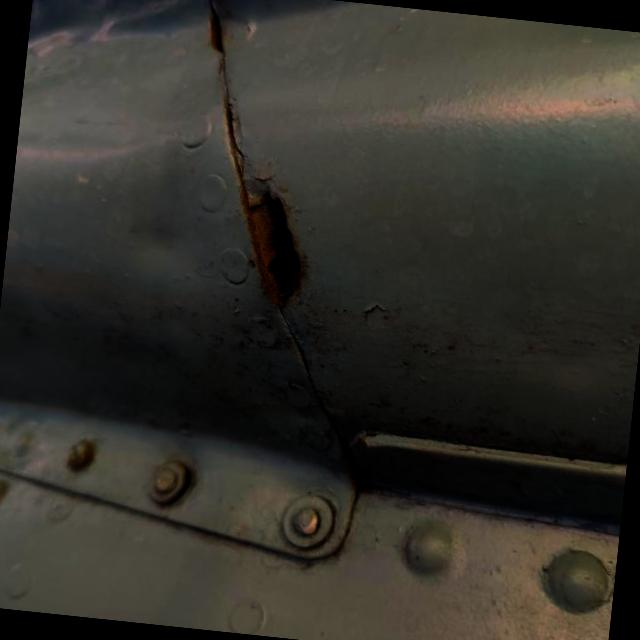crack: (217, 165, 331, 330)
